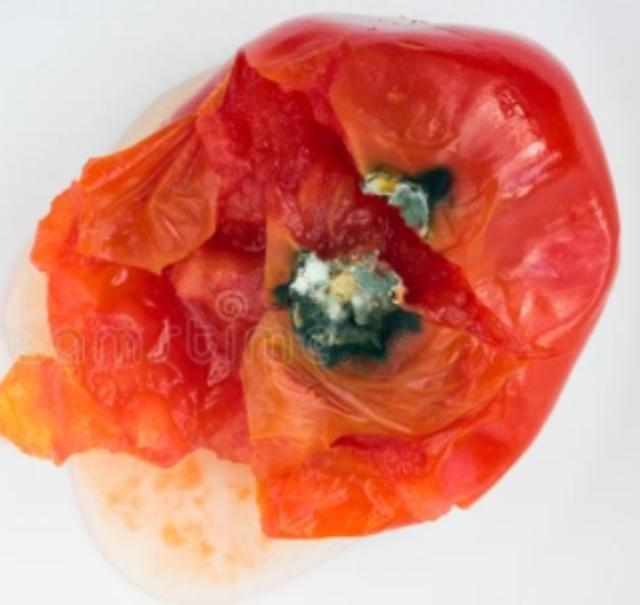defect: (29, 13, 627, 553)
